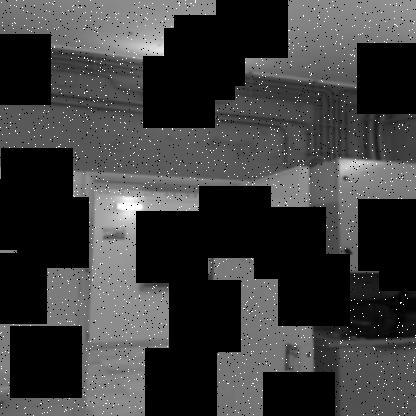Porte: (70, 165, 318, 416)
